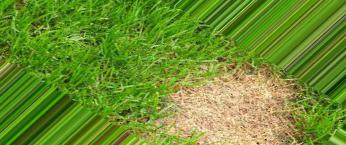patch: (179, 93, 217, 131), (227, 76, 252, 110), (257, 84, 280, 107), (233, 118, 256, 138), (264, 115, 278, 135)
